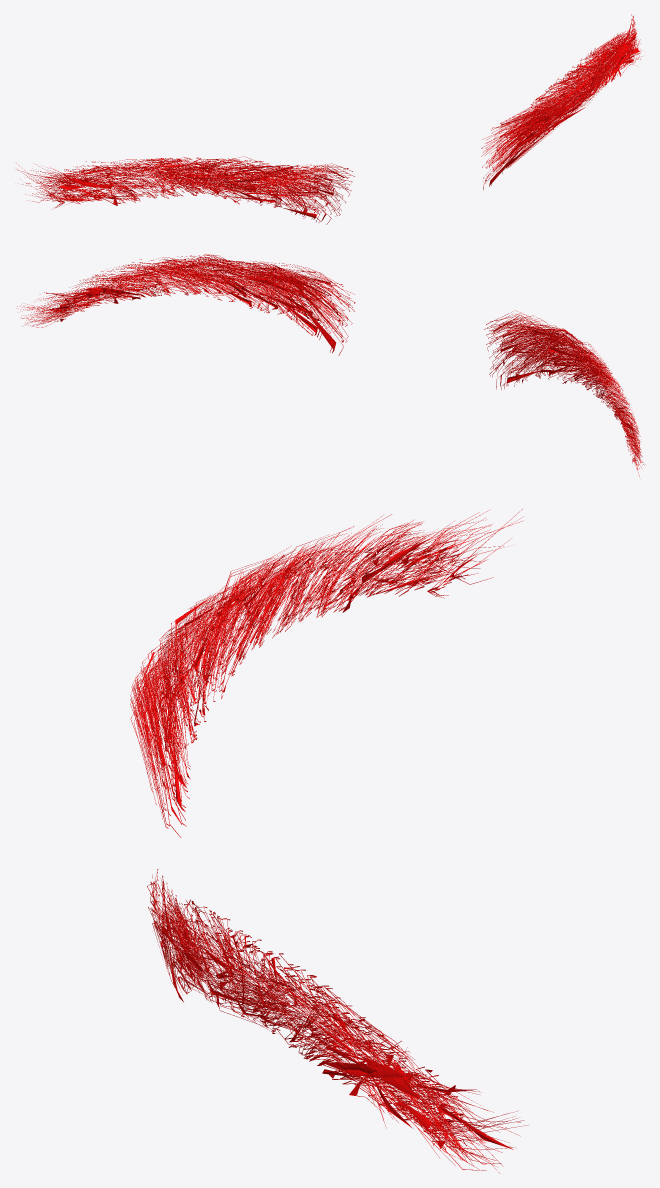
The model's file is mindfront_eyebrows_07_M.glb.
3 views of the same model, one above another, from view 1: azimuth 30°, elevation 25°; view 2: azimuth 150°, elevation 25°; view 3: azimuth 270°, elevation 25° (orthographic). The views are drawn at different scales.
Bounding box in the file's own units: 0.124 × 0.0164 × 0.0345.
1 material, 1 textured.
